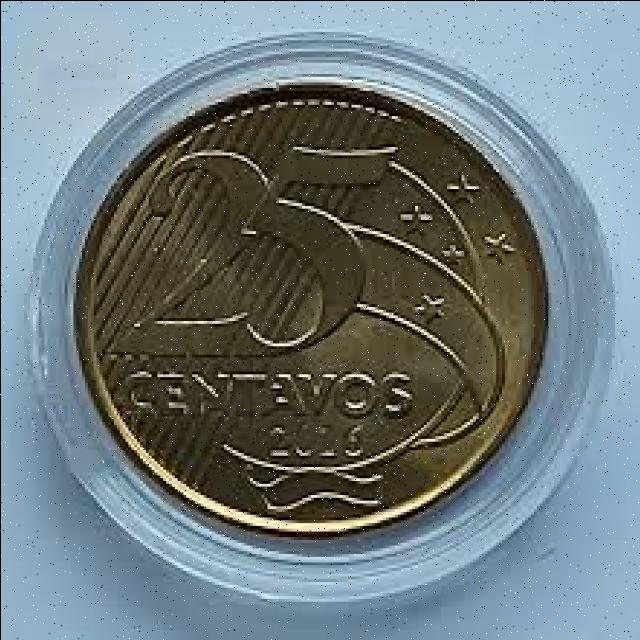25 cent: (79, 78, 529, 526)
